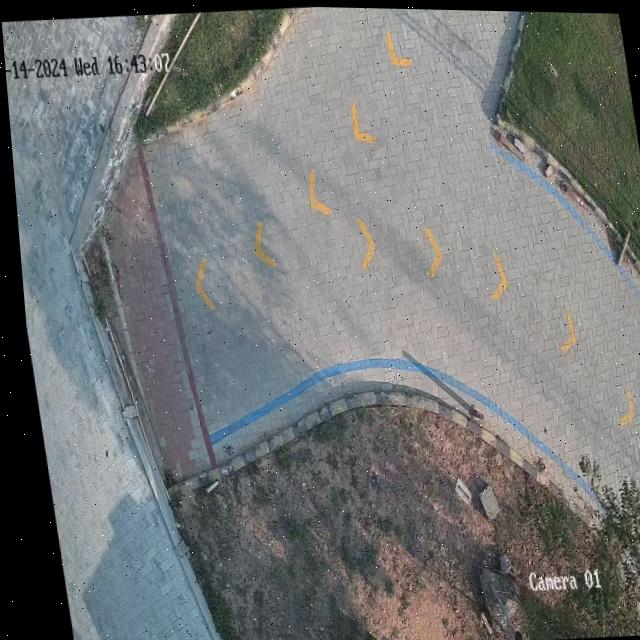No Car: (1, 5, 640, 640)
